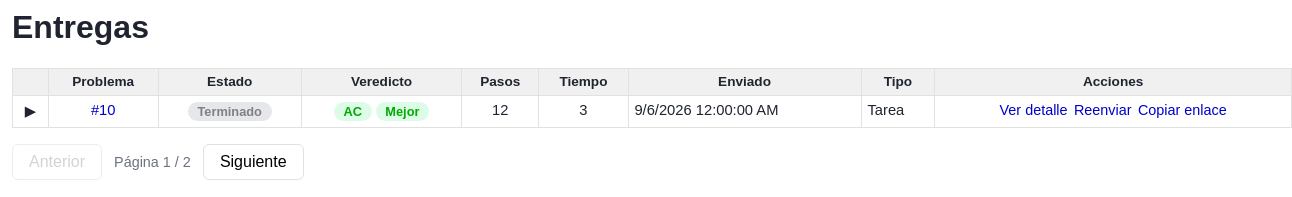
/submissions — paginated runs history › navigates to the next page on click
expect the link "#10" is shown: met, box x1=91 y1=102 x2=116 y2=118
Step 1. Click the button "Siguiente" → (253, 162), box x1=203 y1=144 x2=304 y2=180
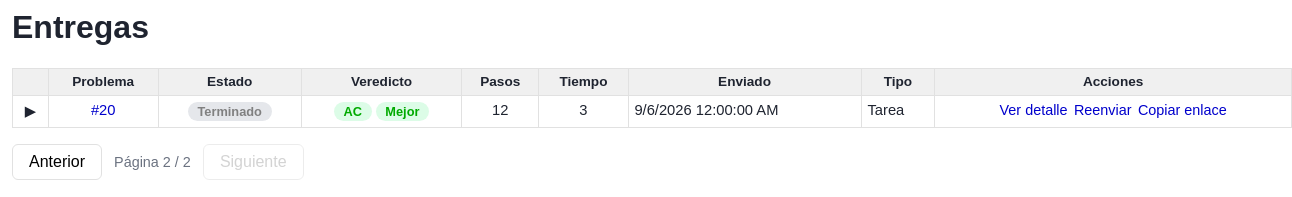
expect the link "#20" is shown: met, box x1=91 y1=102 x2=116 y2=118
